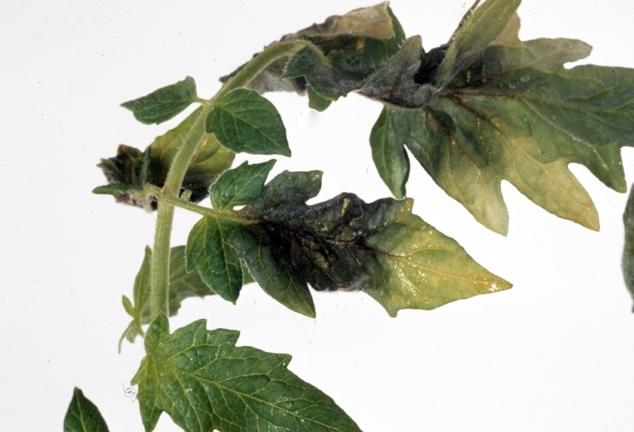Tomato leaf late blight: (190, 167, 518, 327), (370, 39, 634, 233), (101, 304, 389, 432)
